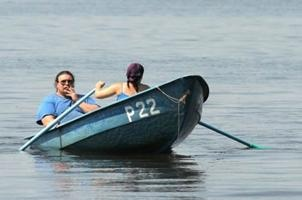person without safety: (49, 68, 82, 107), (117, 59, 146, 91)
